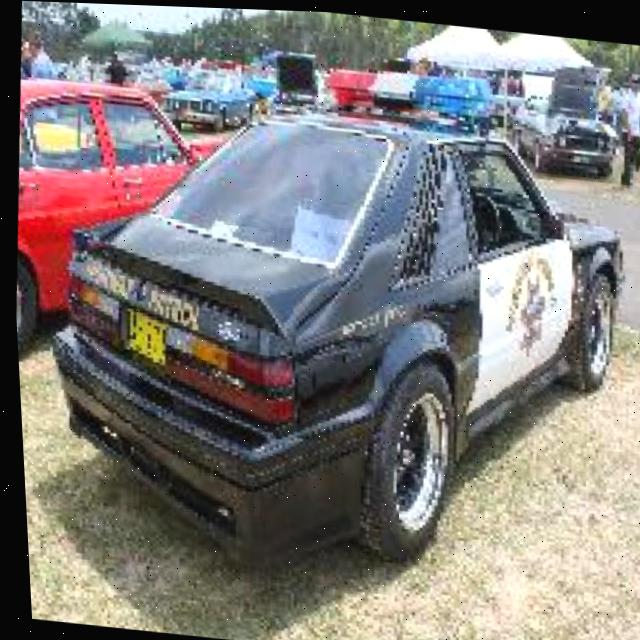emergency: (19, 33, 640, 604)
